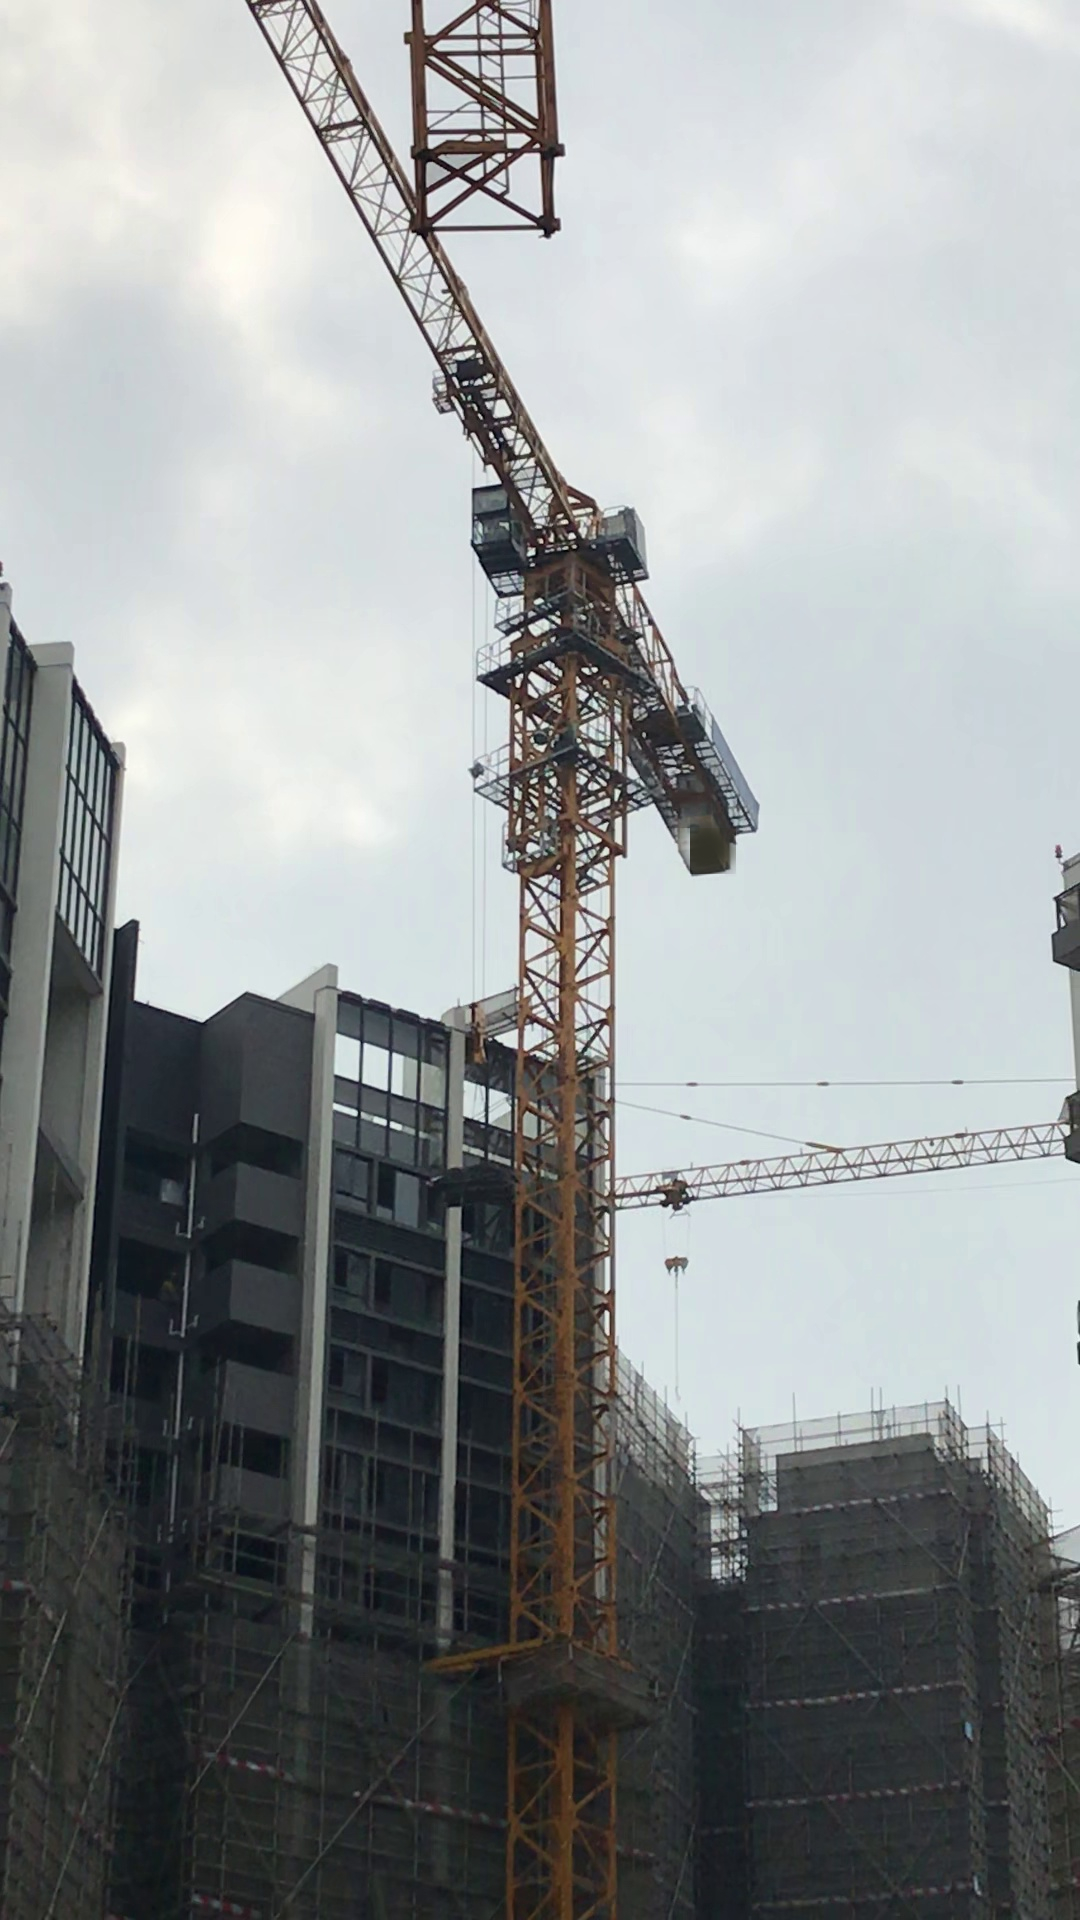hook: (665, 1253, 690, 1276)
